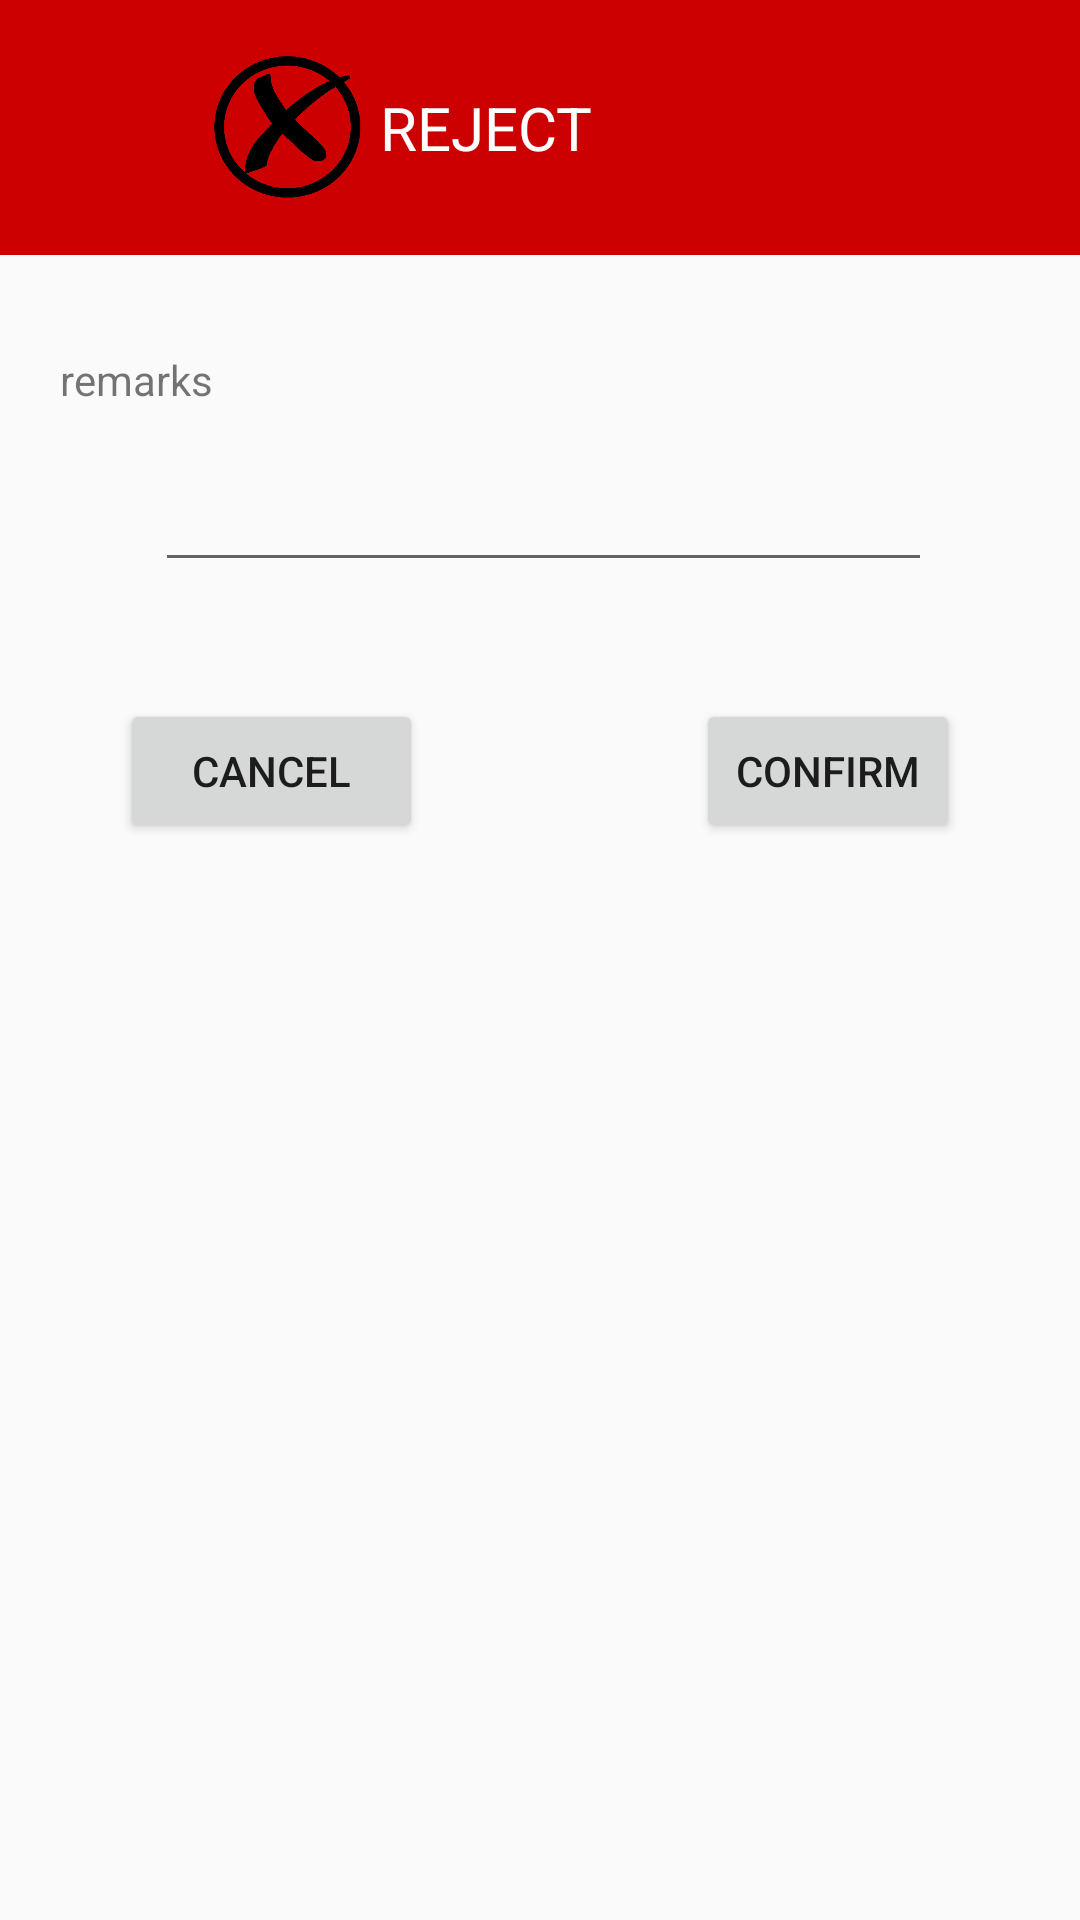

Icon click points for this 1080 x 1920 phone screenshot, format [x,y]:
cross: [287,127]
